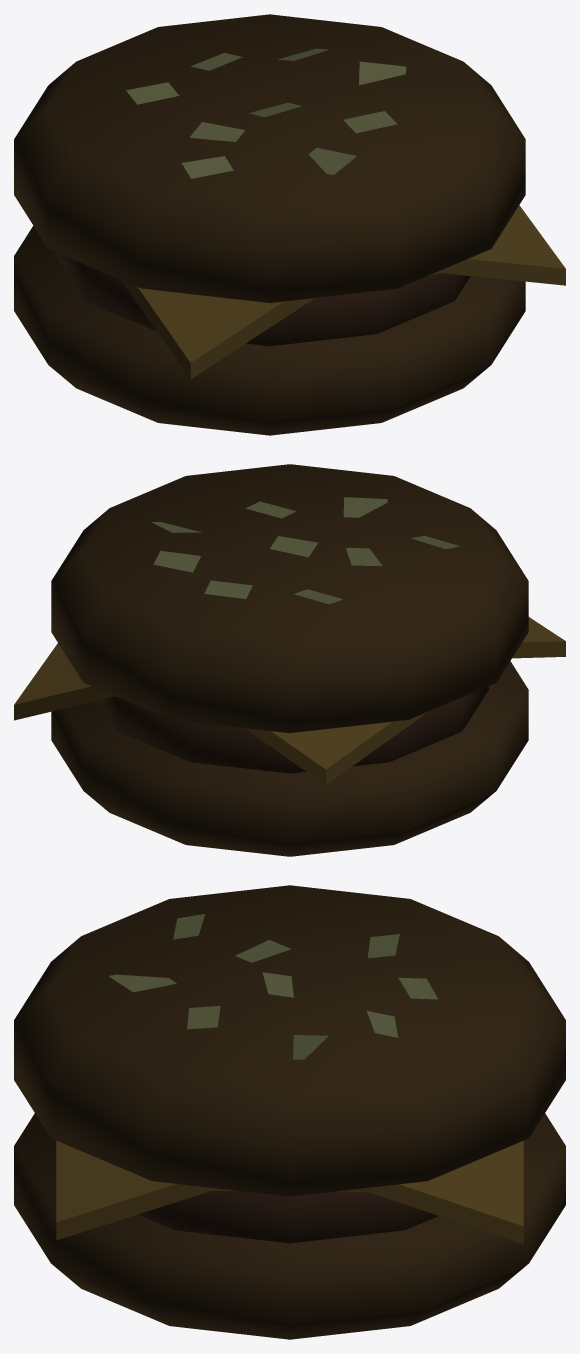
The model's file is Burger (Plain) Burnt.glb.
The picture shows the model from 3 angles, top to bottom: view 1: azimuth 30°, elevation 25°; view 2: azimuth 150°, elevation 25°; view 3: azimuth 270°, elevation 25°; orthographic projection. The views are drawn at different scales.
Visible parts, largest first — view 1: Cylinder.028; view 2: Cylinder.028; view 3: Cylinder.028.
Part boxes in pixels (bbox=[...]): Cylinder.028: bbox=[14, 14, 565, 435]; Cylinder.028: bbox=[14, 464, 565, 856]; Cylinder.028: bbox=[14, 885, 565, 1339].
Size of the model in its own units: 0.4718 by 0.2442 by 0.4718.
